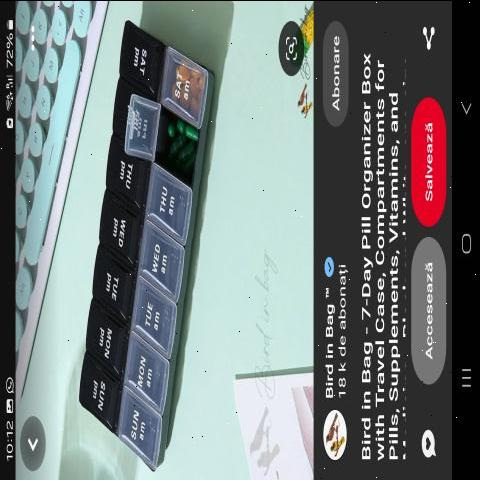PillBox: (38, 19, 248, 464)
